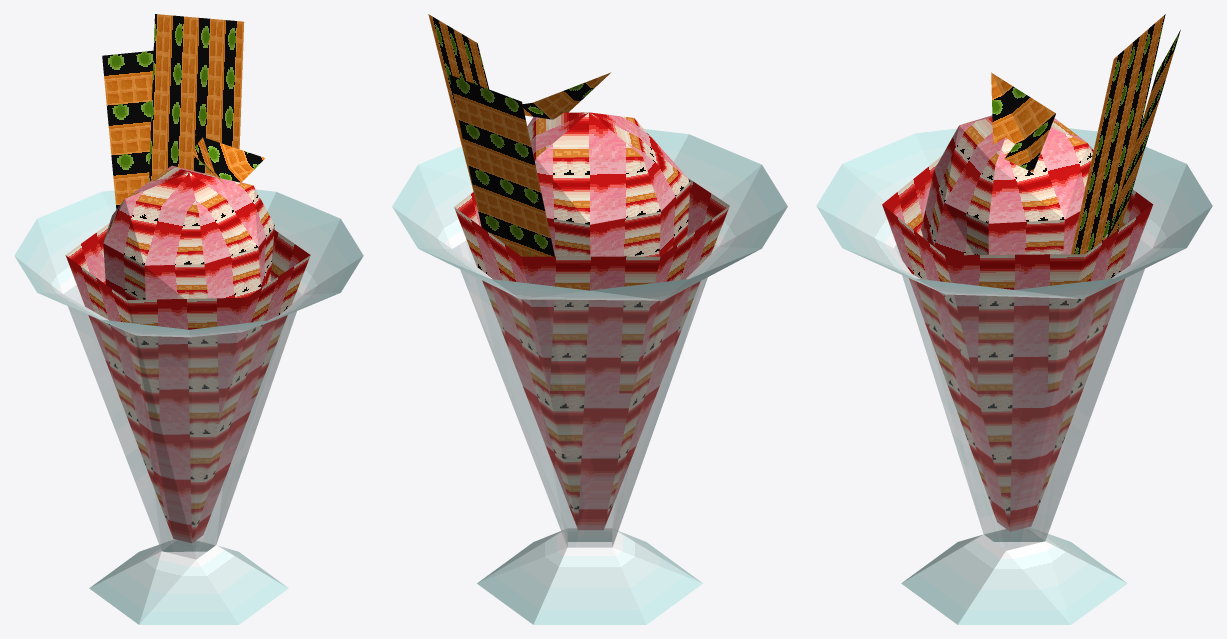
Rendered from parfait_r.gltf.
3 renders of one model, left to right at view 1: azimuth 30°, elevation 25°; view 2: azimuth 150°, elevation 25°; view 3: azimuth 270°, elevation 25°, orthographic. The views are drawn at different scales.
Parts seen in each view (by area): view 1: parfait_r; view 2: parfait_r; view 3: parfait_r.
Boxes of the visible parts, x1,y1,x2,y2 form: parfait_r: [14, 14, 363, 624]; parfait_r: [392, 14, 787, 624]; parfait_r: [816, 14, 1212, 624].
Size of the model in its own units: 0.6074 by 0.9897 by 0.6055.
Materials: 4 (4 with a texture image).
